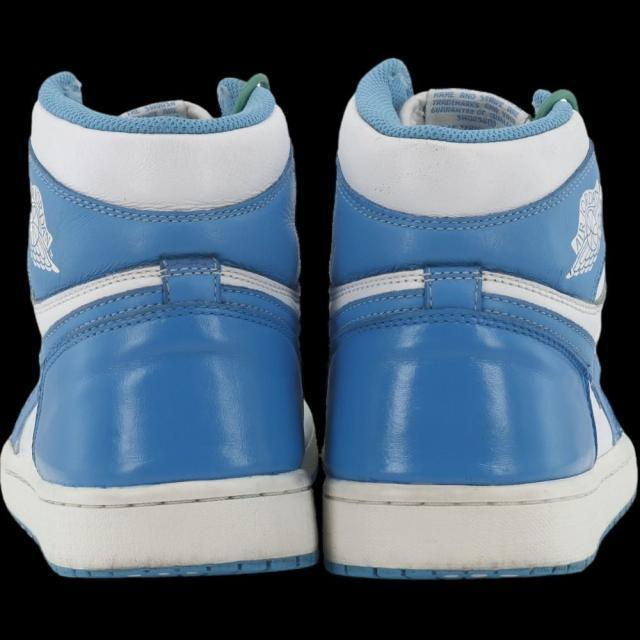nike original jordan 1: (312, 52, 640, 586), (3, 58, 320, 588)
